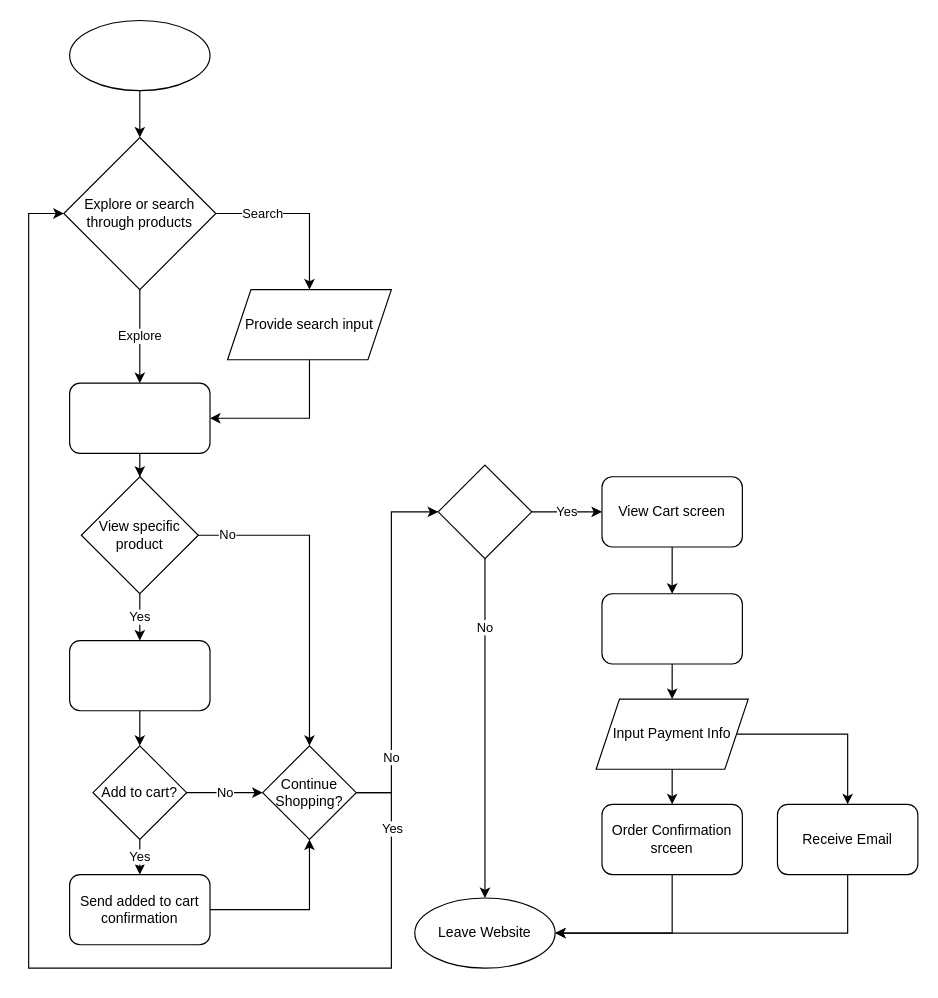
Image size: 938x998. Some labels were removed from this diagram. The centre of each missing label's shape, as x and y in pixels:
Checkout?: the point at 484,511
Enter Website: the point at 139,55
Look over products: the point at 139,417
Product webpage: the point at 139,675
View Payment screen: the point at 671,628
